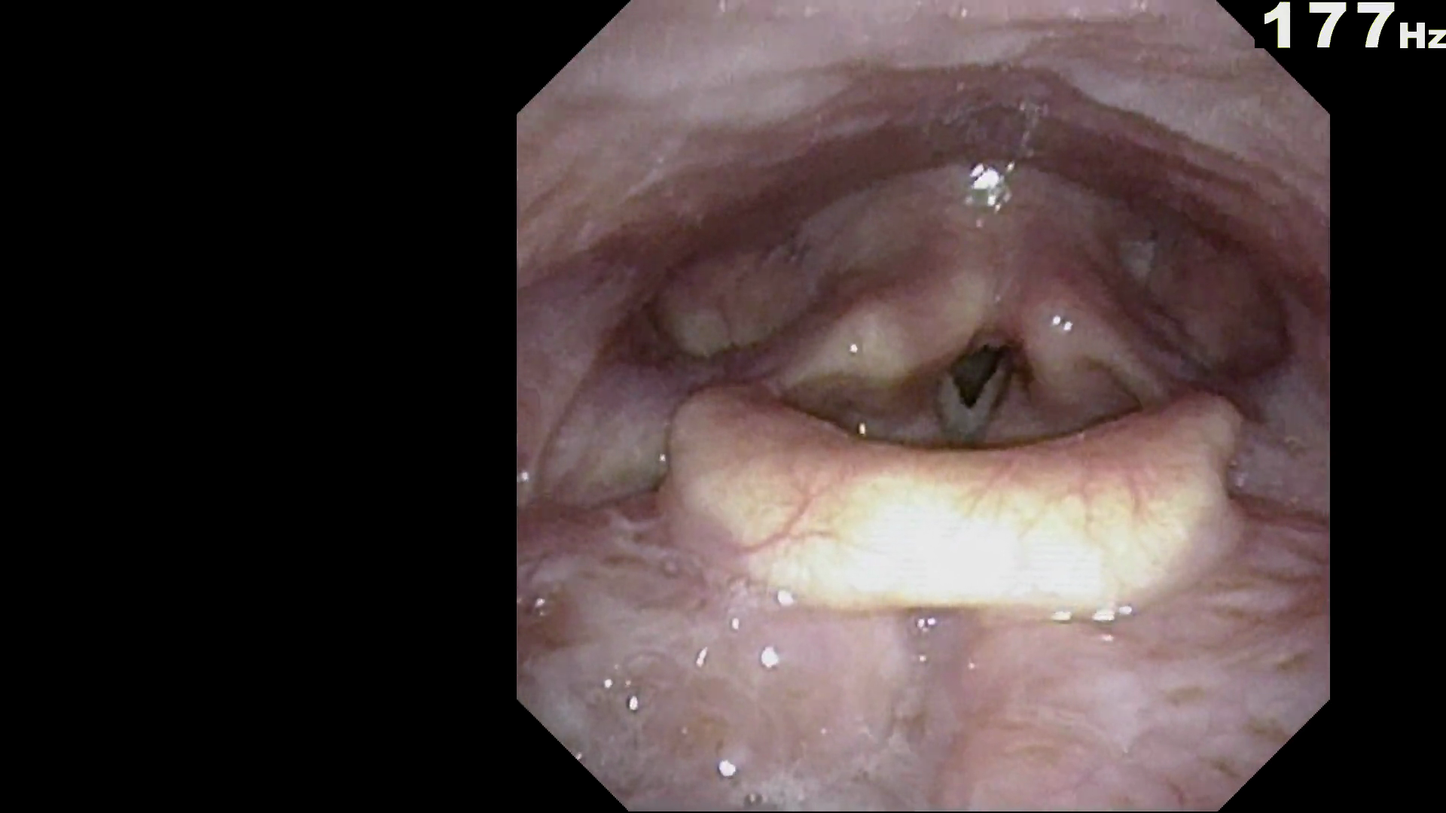epiglottis: (666, 383, 1260, 647)
trachea: (926, 322, 1017, 445)
